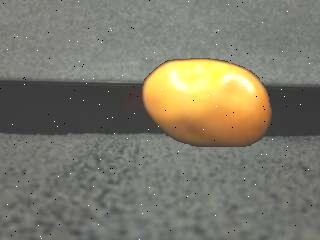Potato: (139, 57, 276, 150)
